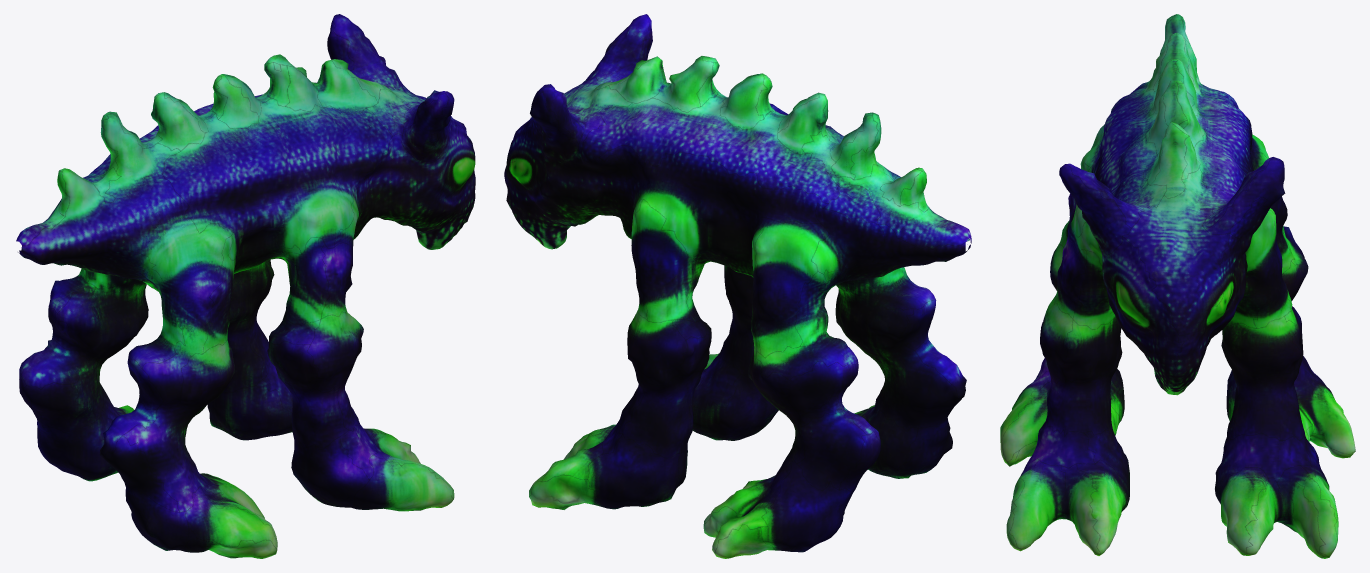
File: alien_dog.glb
The picture shows the model from 3 angles, left to right: view 1: azimuth 30°, elevation 25°; view 2: azimuth 150°, elevation 25°; view 3: azimuth 270°, elevation 25°; orthographic projection. The views are drawn at different scales.
Visible parts, largest first — view 1: Mesh1; view 2: Mesh1; view 3: Mesh1.
Boxes of the visible parts, x1,y1,x2,y2 form: Mesh1: (16,14,475,558); Mesh1: (504,14,971,558); Mesh1: (1000,14,1355,558).
Bounding box in the file's own units: 1.2 × 1.05 × 0.7846.
1 material, 1 textured.
